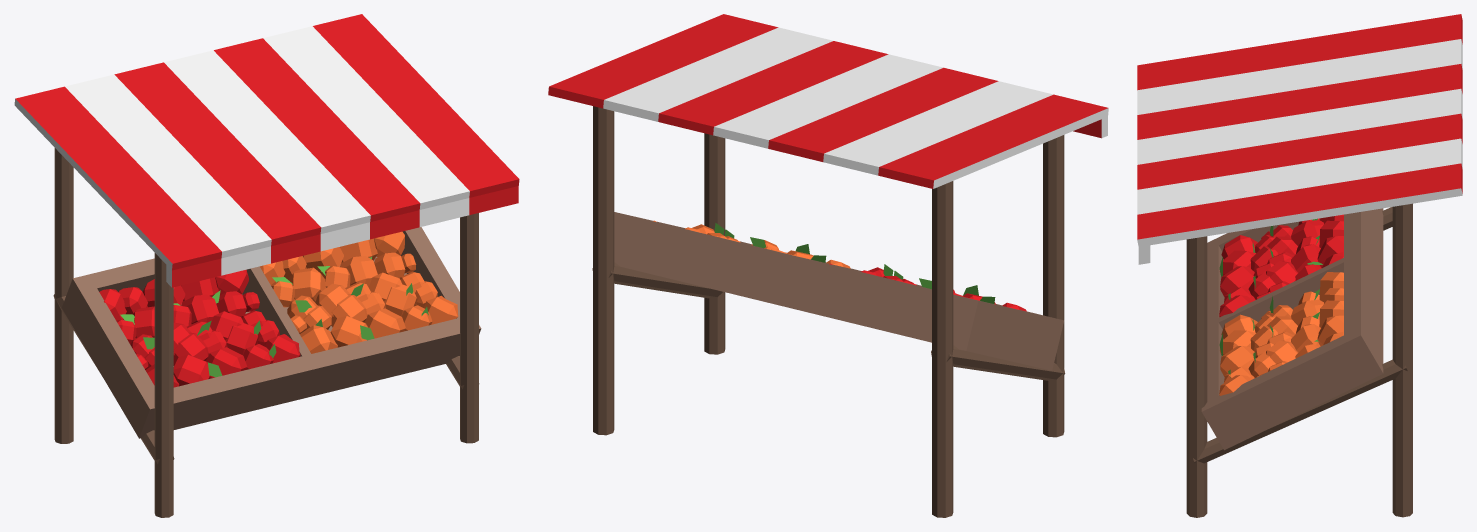
File: bazaar-item-01.obj
3 renders of one model, left to right at view 1: azimuth 30°, elevation 25°; view 2: azimuth 150°, elevation 25°; view 3: azimuth 270°, elevation 25°, orthographic. The views are drawn at different scales.
Parts seen in each view (by area): view 1: bazaar-item-01; view 2: bazaar-item-01; view 3: bazaar-item-01.
Boxes of the visible parts, <box> form: bazaar-item-01: <box>14,14,519,517</box>; bazaar-item-01: <box>548,14,1108,517</box>; bazaar-item-01: <box>1137,14,1462,517</box>.
Bounding box in the file's own units: 1.68 × 1.51 × 1.32.
